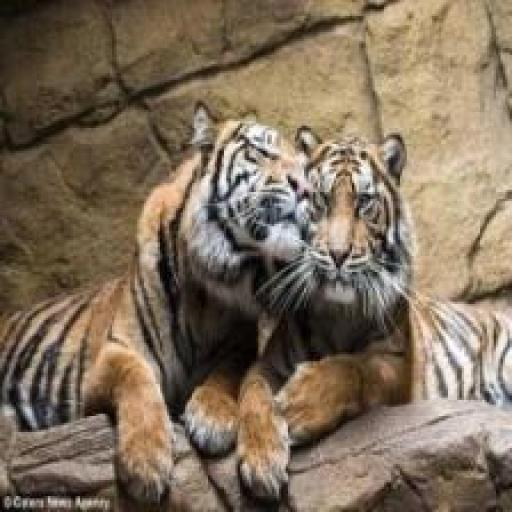Tiger: (1, 104, 326, 512), (232, 117, 512, 507)
